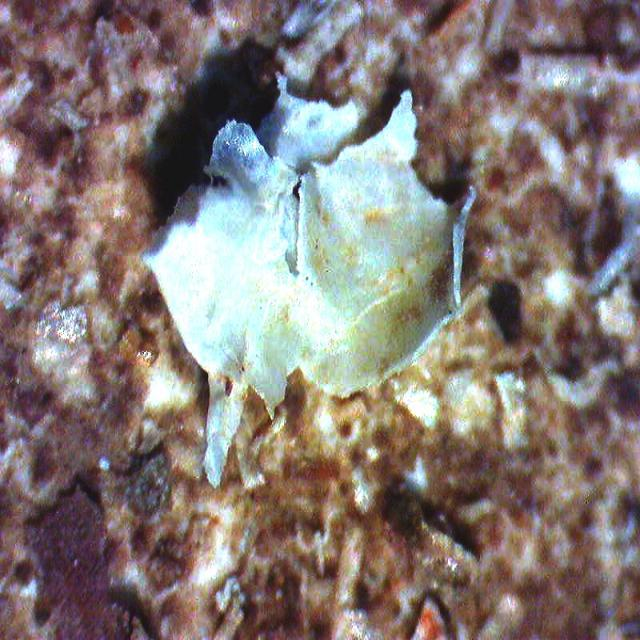microplastic: (137, 71, 477, 489)
